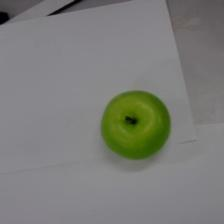green: (101, 90, 171, 160)
